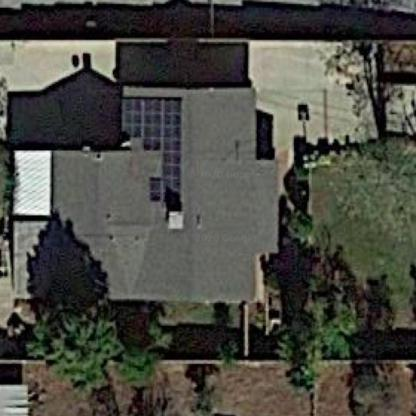solar_panel: (106, 85, 188, 214)
